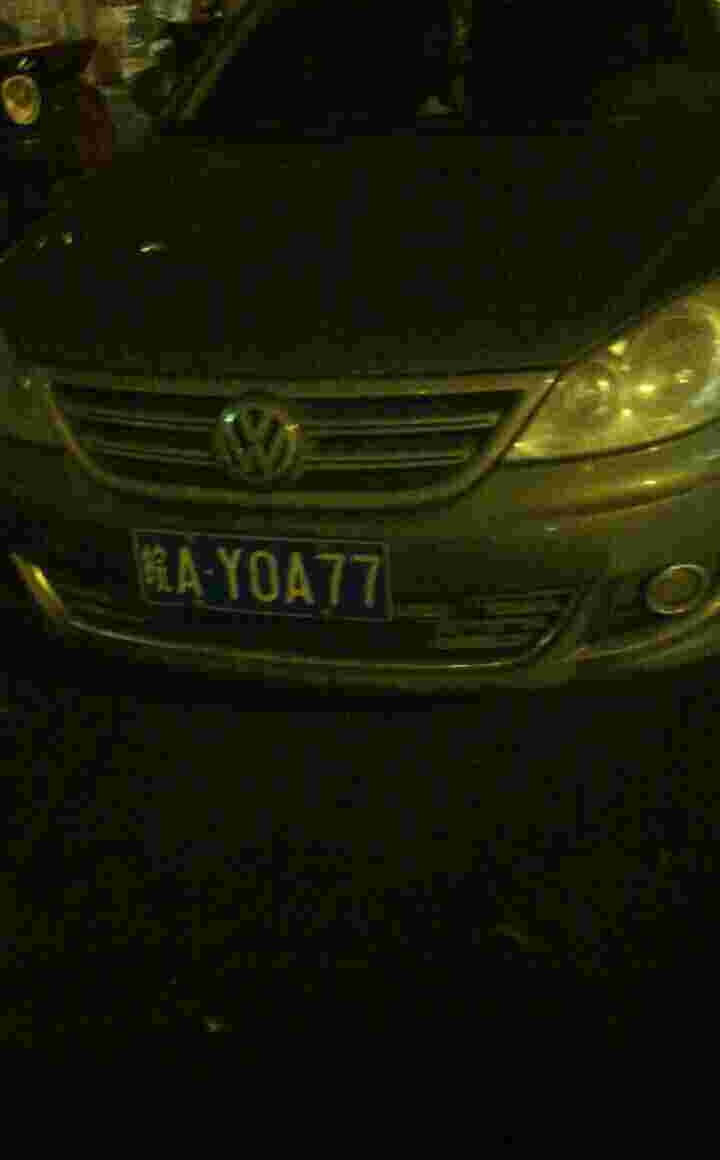plate: (130, 524, 398, 626)
